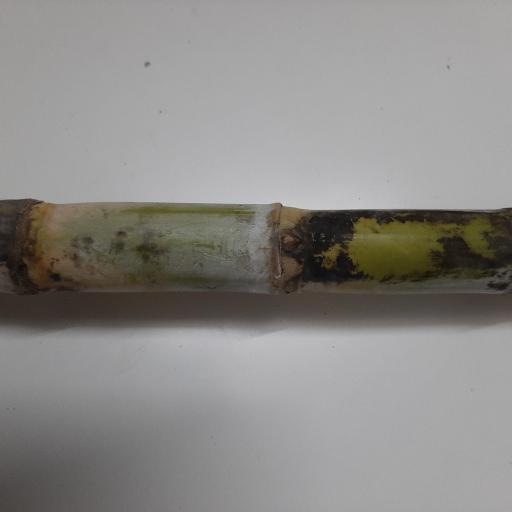Bud: (280, 232, 302, 253)
